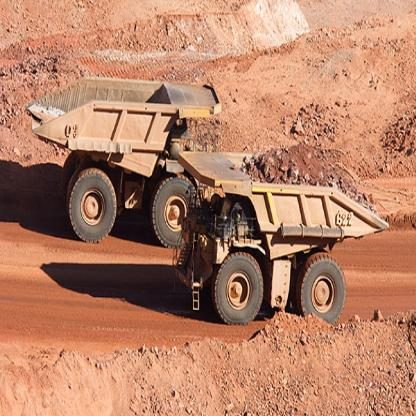dump_truck: (176, 144, 392, 327), (23, 64, 218, 257)
